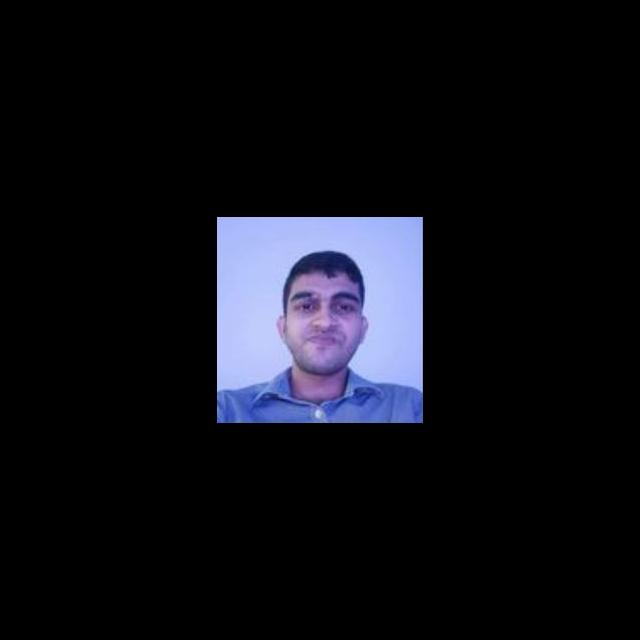Disgust: (262, 262, 375, 381)
